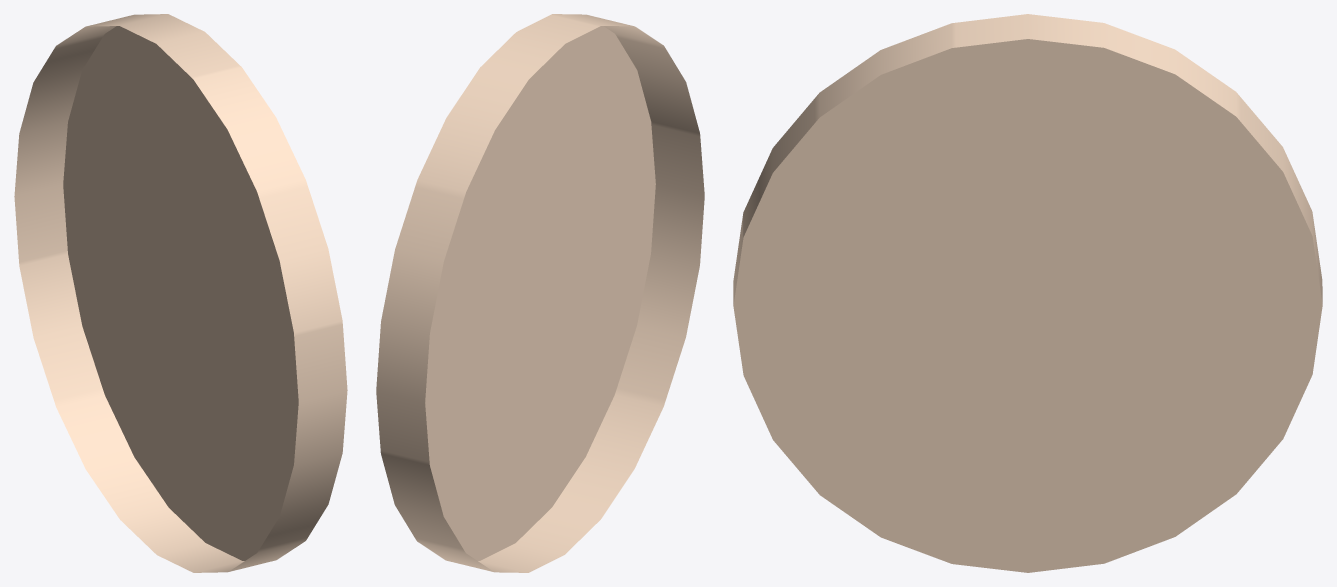
Rendered from original-14.obj.
3 views of the same model, side by side, from view 1: azimuth 30°, elevation 25°; view 2: azimuth 150°, elevation 25°; view 3: azimuth 270°, elevation 25° (orthographic). The views are drawn at different scales.
Parts seen in each view (by area): view 1: #ID96; view 2: #ID96; view 3: #ID96.
Part boxes in pixels (x1=…): #ID96: x1=14, y1=14, x2=347, y2=572; #ID96: x1=376, y1=14, x2=704, y2=572; #ID96: x1=733, y1=14, x2=1322, y2=572.
Bounding box in the file's own units: 0.00886 × 0.0846 × 0.0847.
